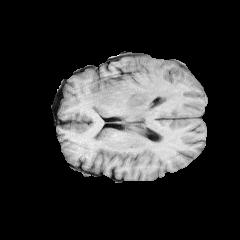glioma: (88, 77, 181, 112)
